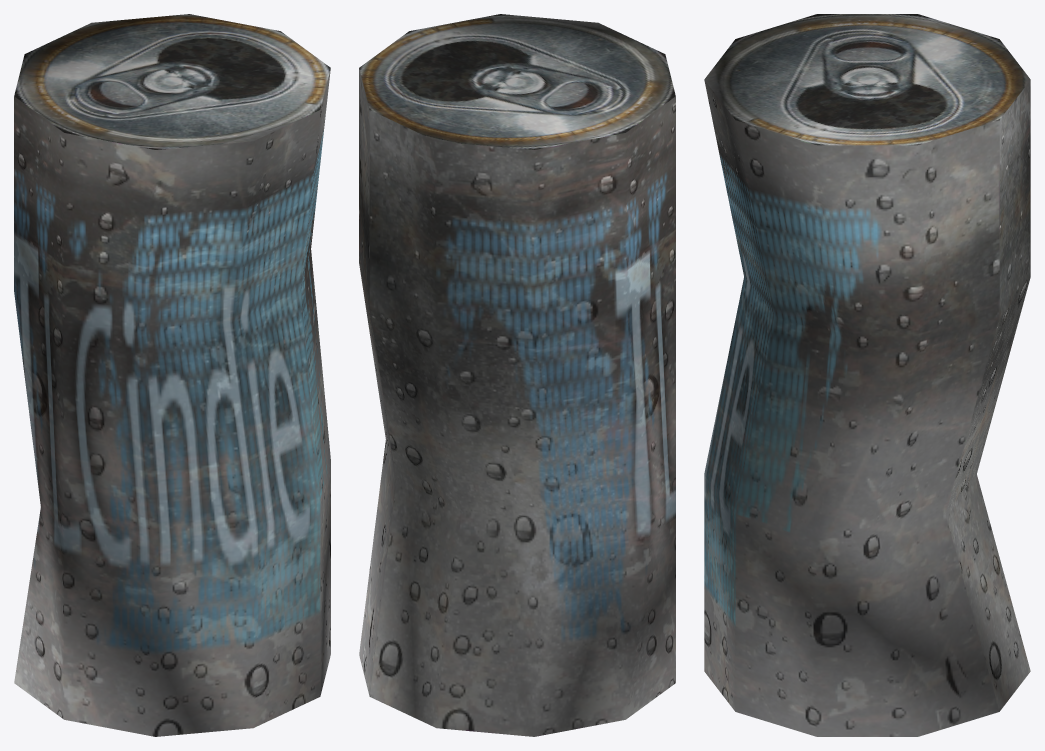
The model's file is Can.fbx.
3 views of the same model, side by side, from view 1: azimuth 30°, elevation 25°; view 2: azimuth 150°, elevation 25°; view 3: azimuth 270°, elevation 25° (orthographic).
Parts seen in each view (by area): view 1: Cylinder; view 2: Cylinder; view 3: Cylinder.
Part boxes in pixels (bbox=[...]): Cylinder: bbox=[14, 14, 330, 736]; Cylinder: bbox=[359, 14, 675, 736]; Cylinder: bbox=[704, 14, 1030, 736].
Size of the model in its own units: 0.1457 by 0.3064 by 0.1532.
